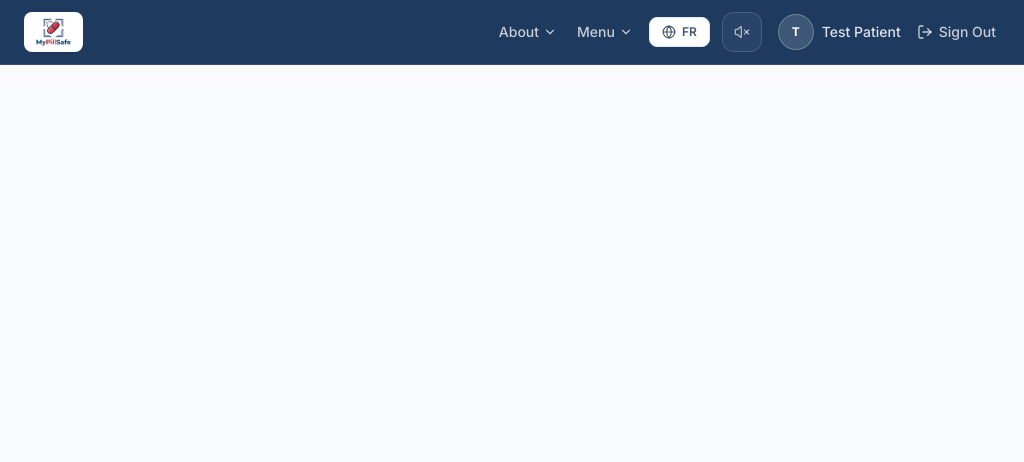
Navbar tray-check entry (VITE_TRAY_CHECK) › bar: flag UNSET (the default) -- no tray-check entry in the menu
Click the button "Menu" at (605, 32), box left=573, top=10, right=637, bottom=54
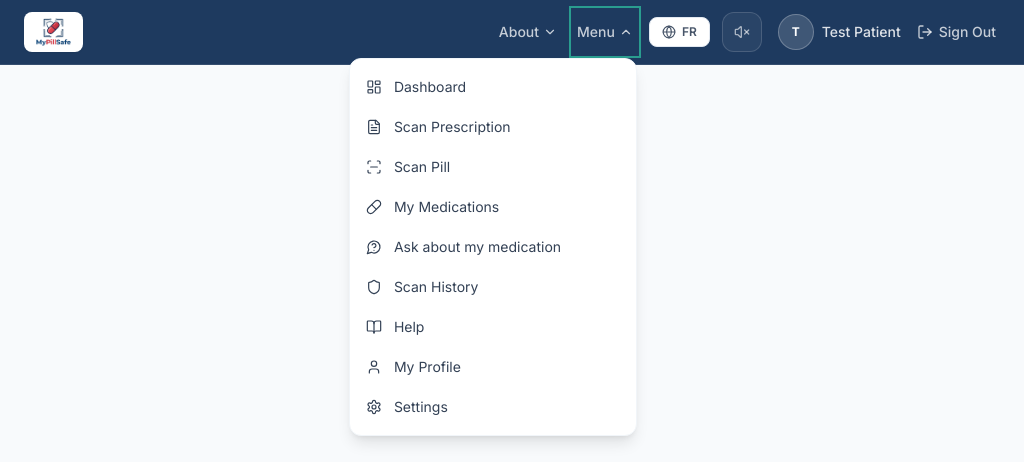
Check: the link "Scan Pill" is shown, box left=366, top=158, right=450, bottom=175
